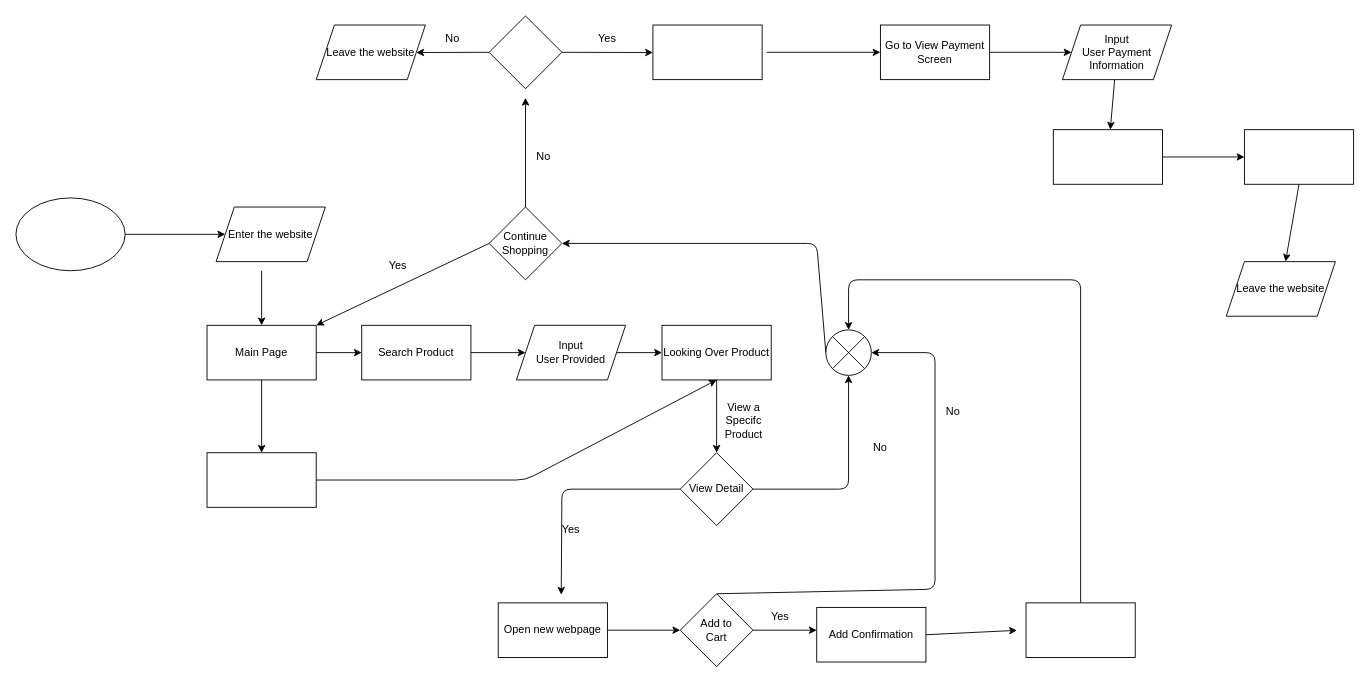
Image size: 1370x683. Some labels were removed from this diagram. Each missing label, with the centre of its shape:
"Add this product to cart" goes at pixel 1080 629.
"Check Out" goes at pixel 525 52.
"Explore Product" goes at pixel 261 479.
"Go to View Cart Screen" goes at pixel 707 52.
"Order Confirnmation" goes at pixel 1107 156.
"Send email to user" goes at pixel 1299 156.
"Start" goes at pixel 70 234.
